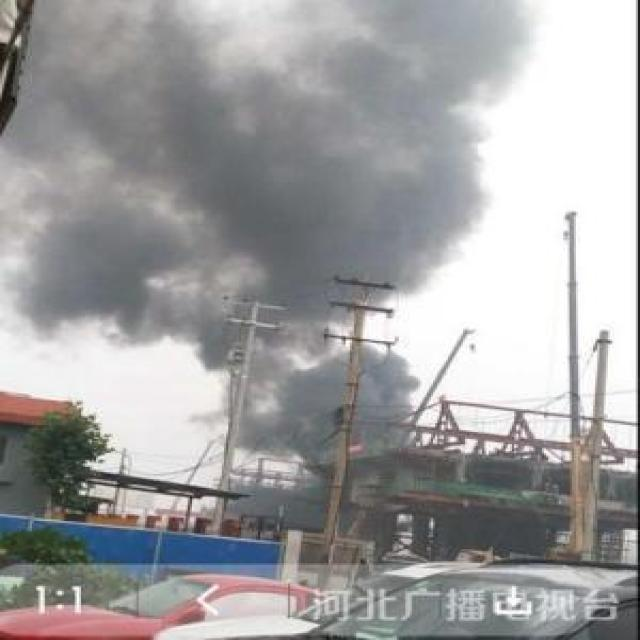Smoke: (8, 0, 528, 466)
